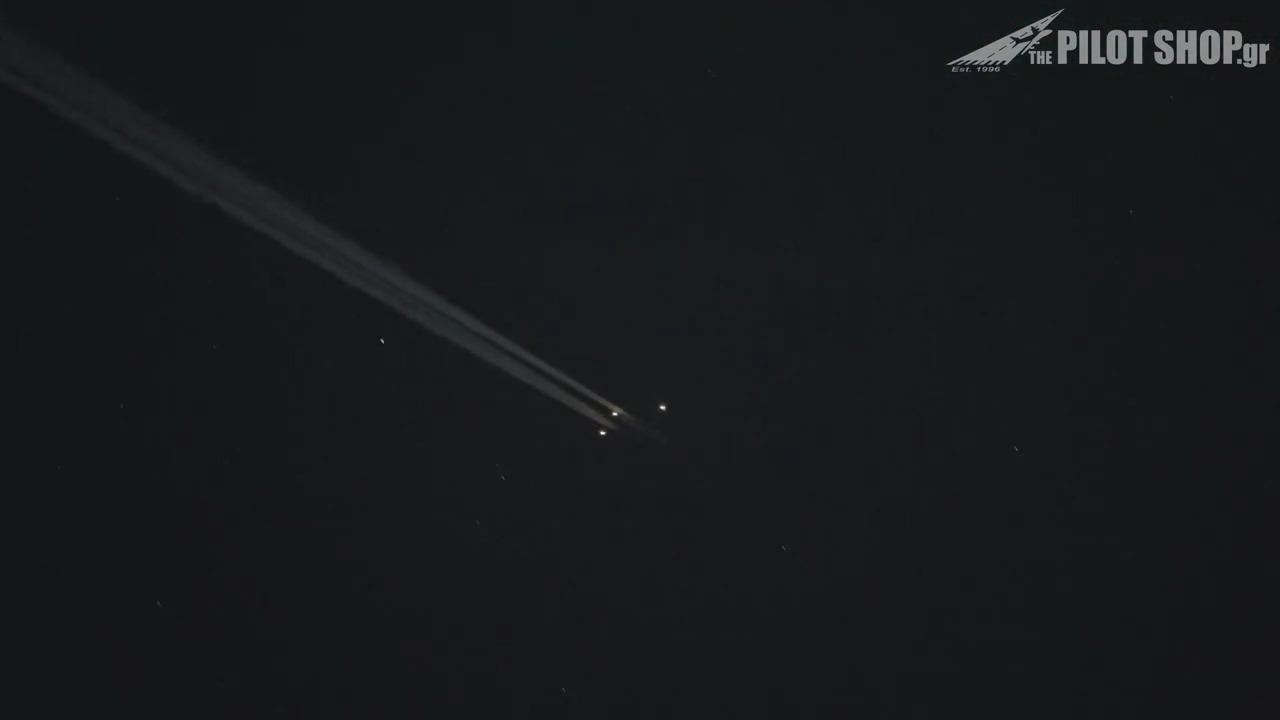Plane: (529, 379, 724, 457)
